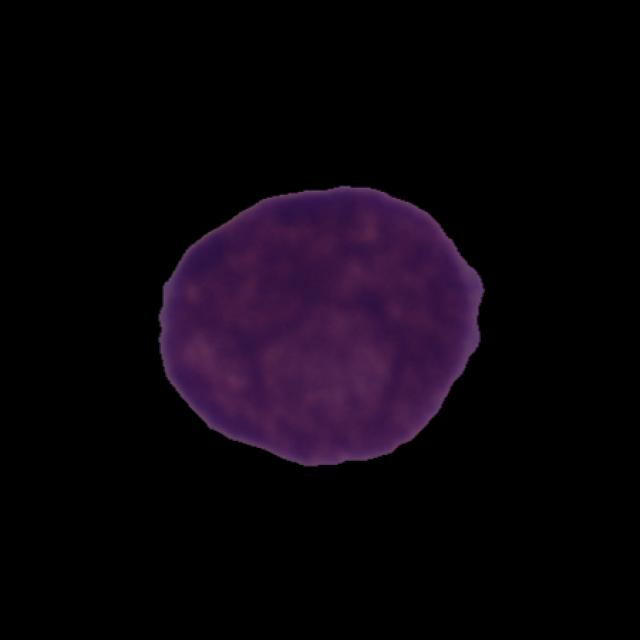ALL Positive Cell: (161, 192, 485, 459)
